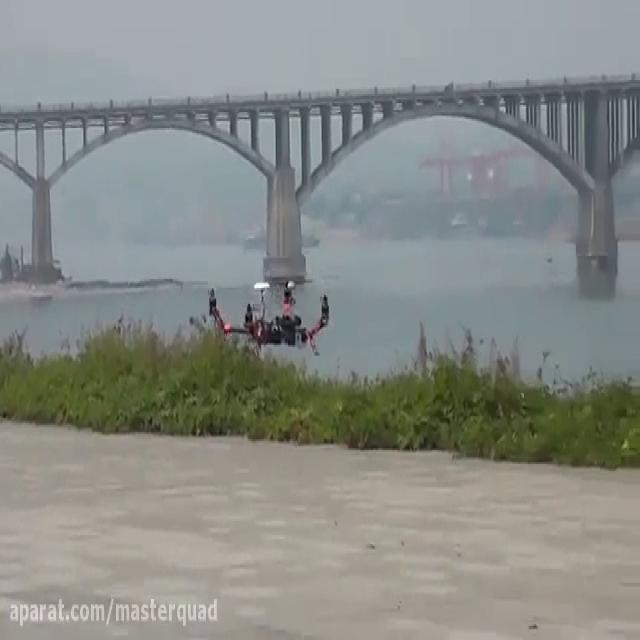drone: (203, 274, 338, 356)
